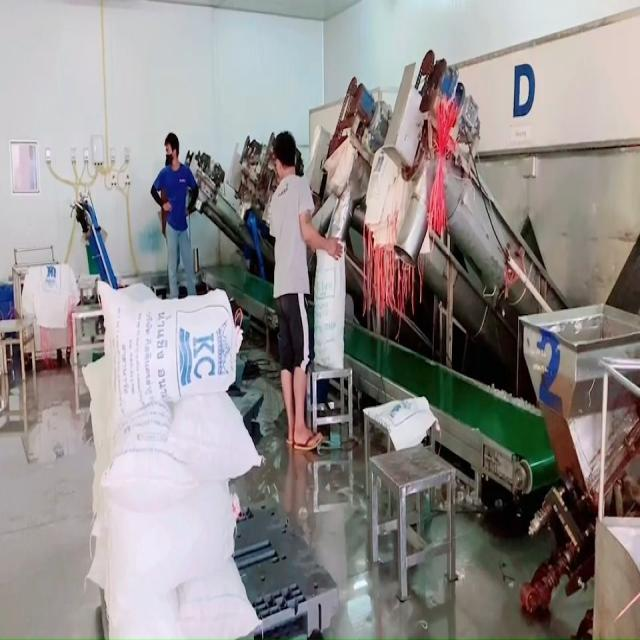ice-bag: (92, 283, 241, 398), (315, 239, 346, 379)
